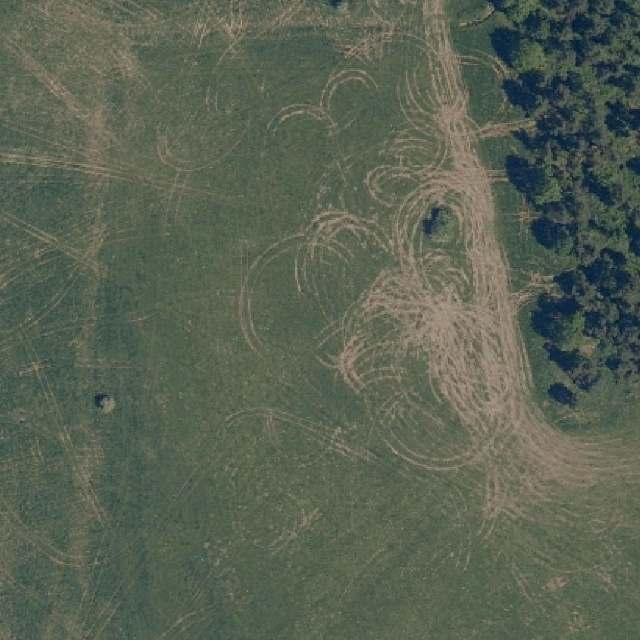vegetation: (492, 0, 640, 404)
